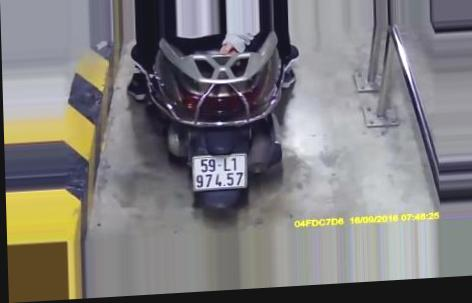License_Plate: (189, 152, 249, 196)
